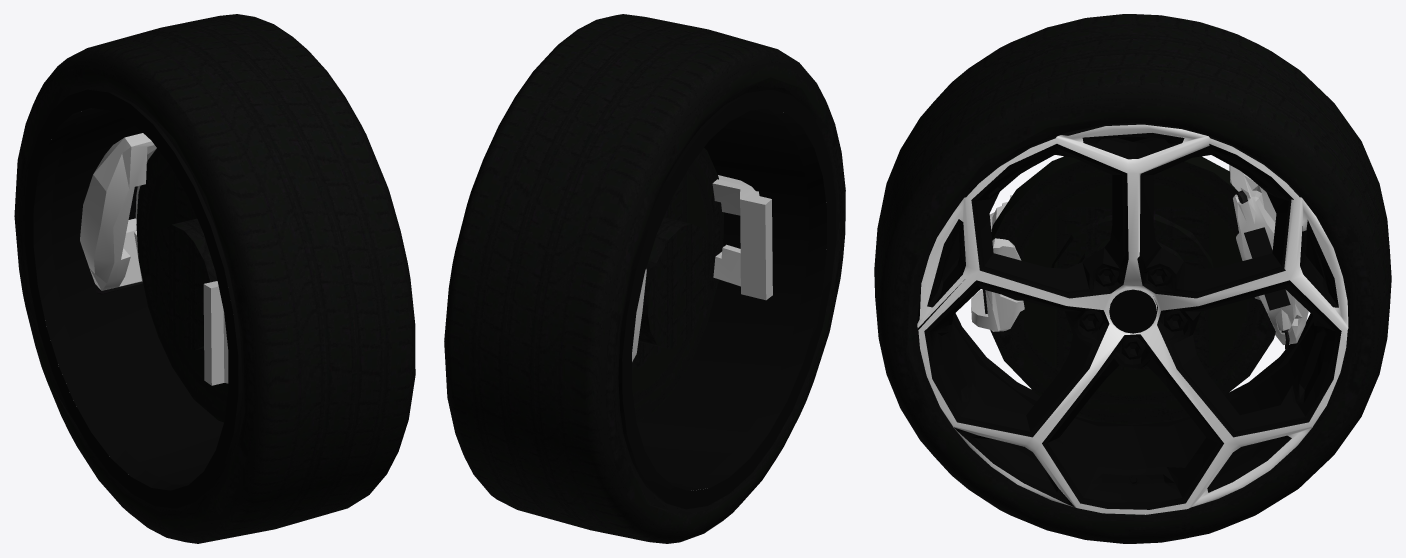
The model's file is huracan-rims-tires-rb.glb.
The picture shows the model from 3 angles, left to right: view 1: azimuth 30°, elevation 25°; view 2: azimuth 150°, elevation 25°; view 3: azimuth 270°, elevation 25°; orthographic projection.
Visible parts, largest first — view 1: Object_255.001, Object_255; view 2: Object_255.001, Object_255; view 3: Object_255, Object_255.001.
Boxes of the visible parts, left/top/right/bottom form: Object_255.001: left=14, top=14, right=415, bottom=543; Object_255: left=33, top=89, right=242, bottom=501; Object_255.001: left=444, top=14, right=845, bottom=543; Object_255: left=618, top=89, right=826, bottom=503; Object_255: left=917, top=123, right=1348, bottom=514; Object_255.001: left=874, top=14, right=1391, bottom=543.
Bounding box in the file's own units: 1.08 × 2.81 × 2.81.
6 materials, 2 textured.
